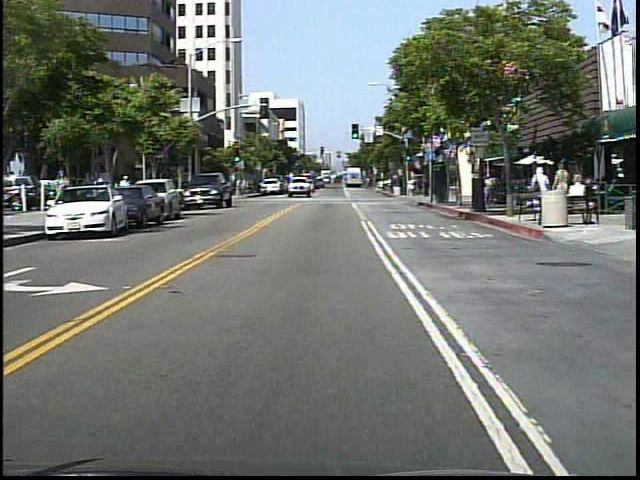person: (52, 166, 73, 219), (236, 175, 249, 201)
